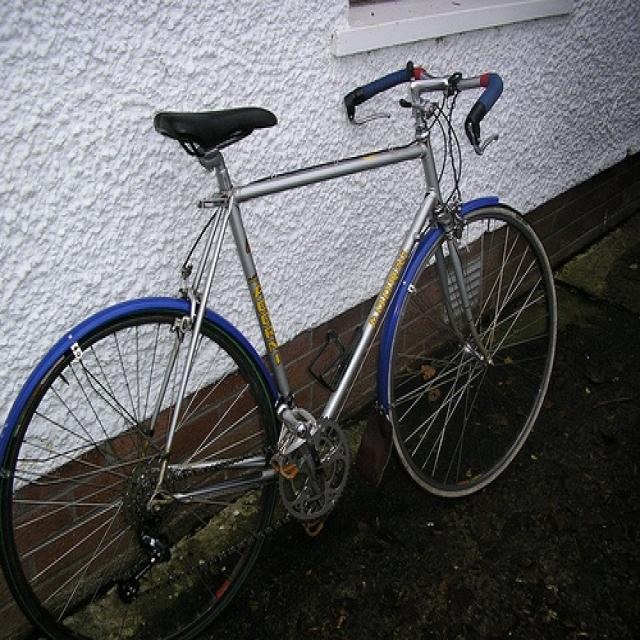bicycle: (0, 60, 557, 638)
